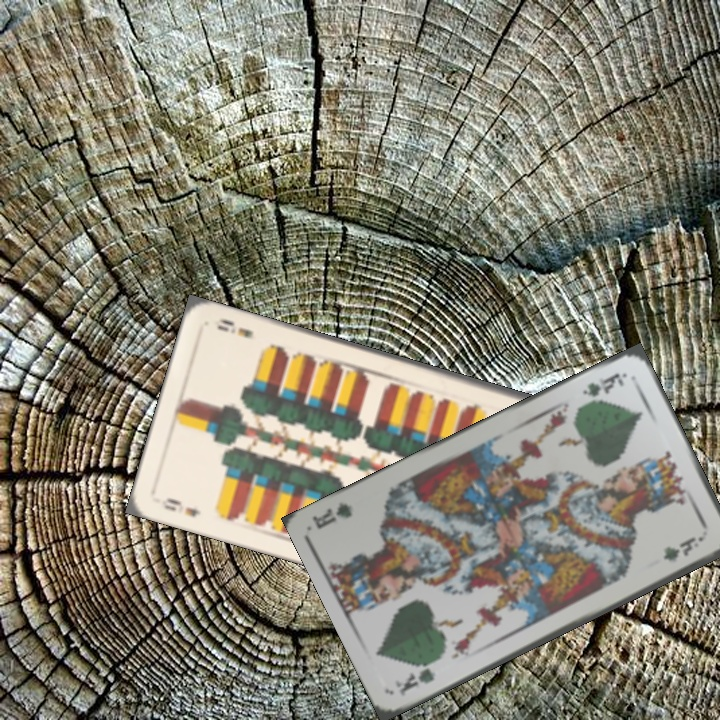E9: (159, 494, 203, 519)
GK: (391, 664, 438, 699), (578, 369, 628, 400)
